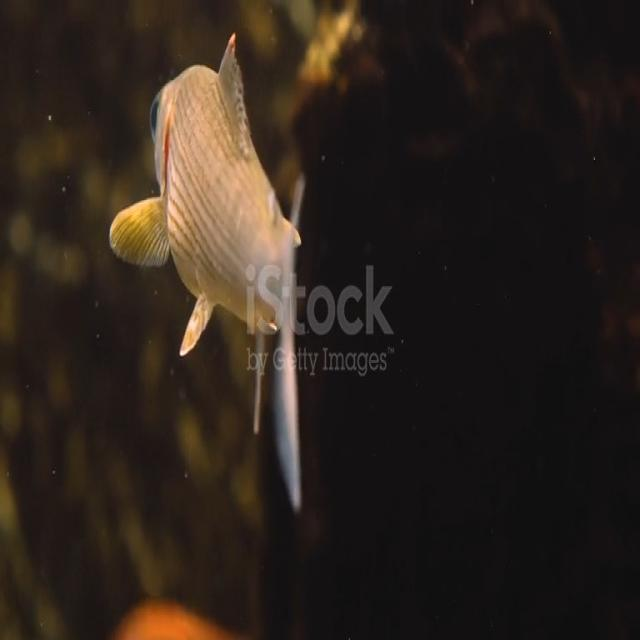fish: (111, 17, 311, 510)
